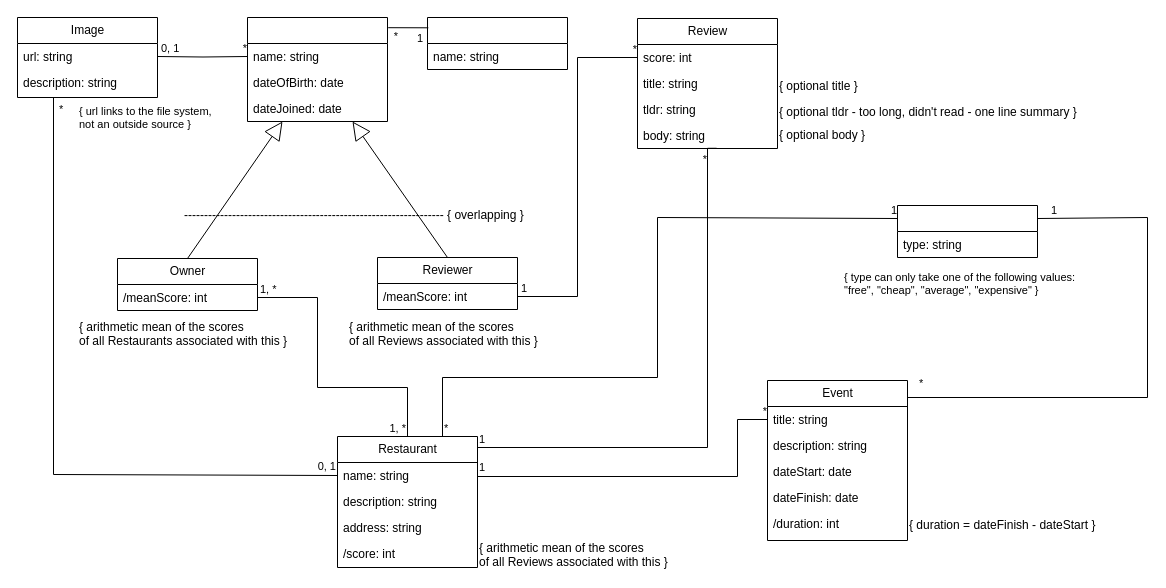
Image size: 1166x588. Some labels were removed from this diagram. Each missing label, with the box of its shape:
PriceRange: (896, 204, 1038, 258)
ResidenceArea: (426, 16, 568, 70)
User: (246, 16, 388, 122)
